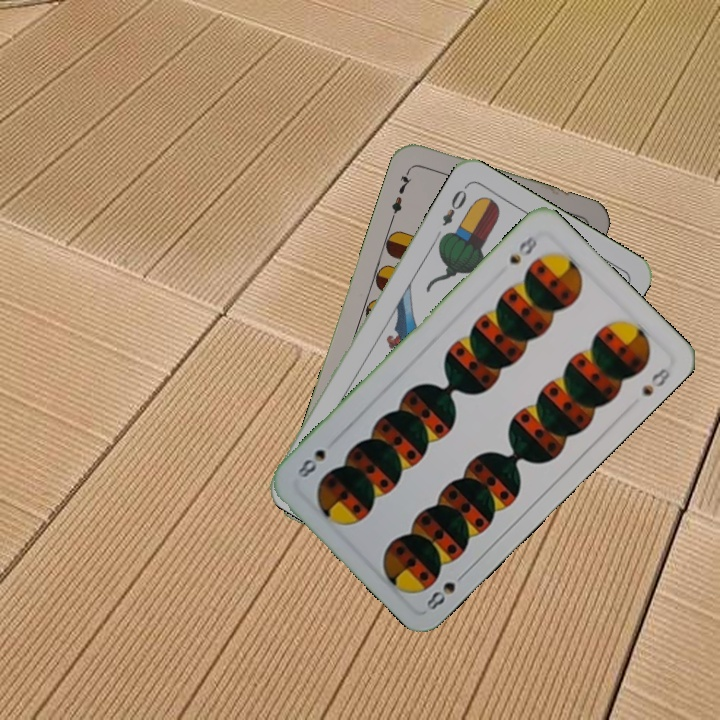E7: (387, 164, 414, 222)
EO: (438, 185, 470, 229)
S8: (422, 567, 470, 613), (505, 231, 545, 267)
